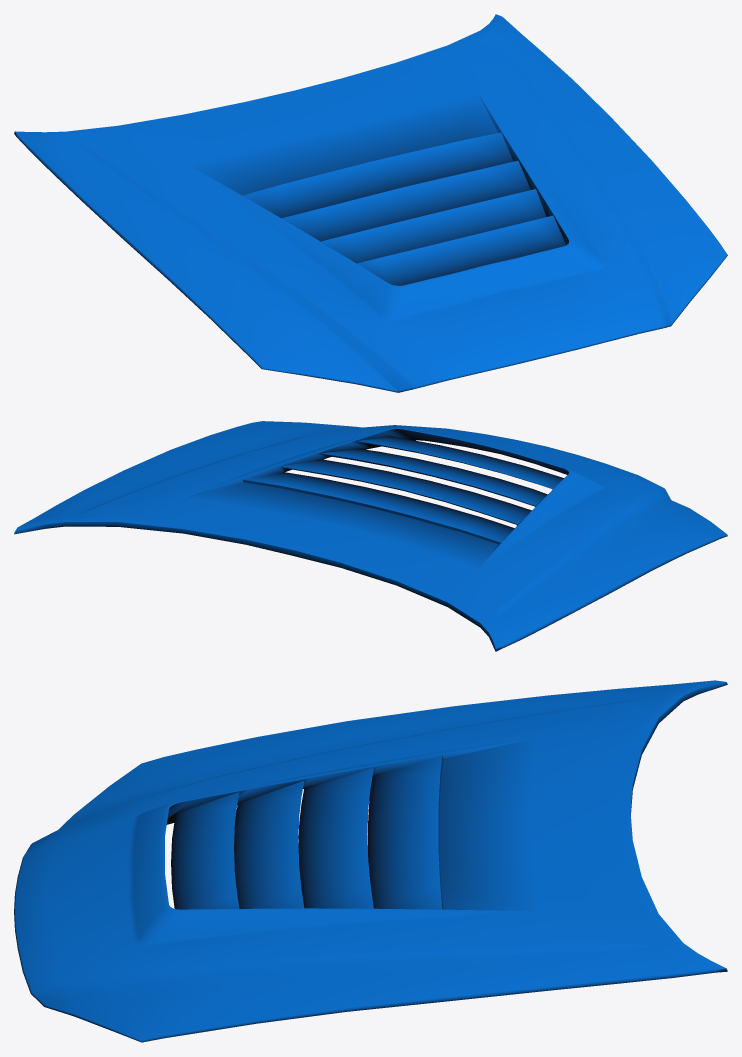
File: R34_Bonnet03_Duco.fbx
3 views of the same model, one above another, from view 1: azimuth 30°, elevation 25°; view 2: azimuth 150°, elevation 25°; view 3: azimuth 270°, elevation 25° (orthographic). The views are drawn at different scales.
Visible parts, largest first — view 1: R34_Bonnet03_Duco; view 2: R34_Bonnet03_Duco; view 3: R34_Bonnet03_Duco.
Part boxes in pixels (left/top/right/bottom): R34_Bonnet03_Duco: left=14, top=14, right=727, bottom=392; R34_Bonnet03_Duco: left=14, top=421, right=727, bottom=651; R34_Bonnet03_Duco: left=14, top=680, right=727, bottom=1042.
Size of the model in its own units: 145 by 26.24 by 149.
